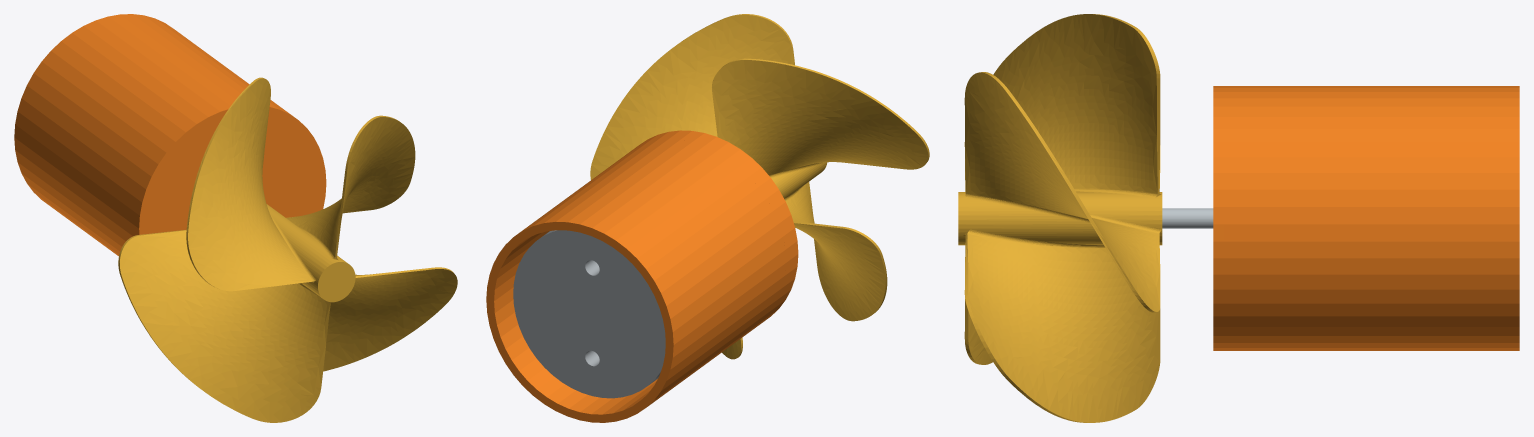
File: tinker.obj
3 views of the same model, side by side, from view 1: azimuth 30°, elevation 25°; view 2: azimuth 150°, elevation 25°; view 3: azimuth 270°, elevation 25° (orthographic). The views are drawn at different scales.
Visible parts, largest first — view 1: obj_1, obj_3, obj_2; view 2: obj_3, obj_1, obj_0, obj_2; view 3: obj_3, obj_1, obj_2, obj_0.
Part boxes in pixels (x1,y1,x2,y2): obj_1: [118, 77, 457, 422]; obj_3: [14, 14, 283, 256]; obj_2: [127, 96, 326, 238]; obj_3: [486, 133, 790, 422]; obj_1: [590, 14, 929, 359]; obj_0: [513, 230, 665, 398]; obj_2: [630, 130, 798, 324]; obj_3: [1223, 86, 1519, 350]; obj_1: [958, 14, 1162, 422]; obj_2: [1213, 86, 1242, 350]; obj_0: [1162, 208, 1213, 228].
Bounding box in the file's own units: 40 × 40 × 55.
